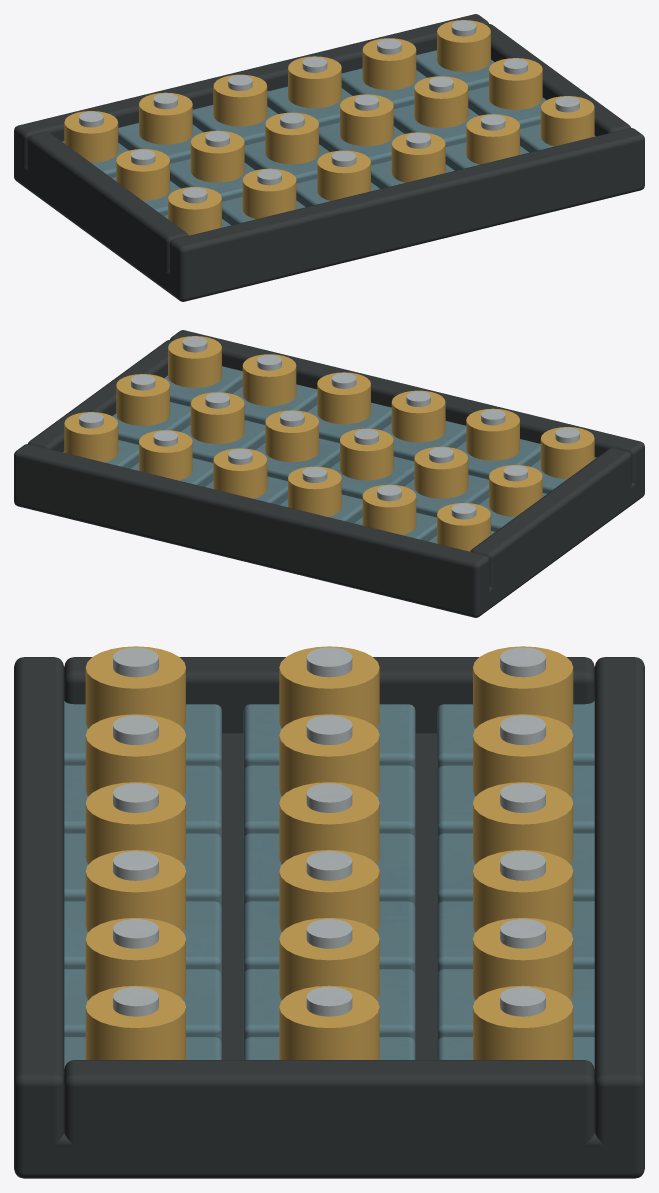
Rendered from gorgehold-survivor-gallery-and-operations-tool-battery-5aa04549__32865.glb.
3 renders of one model, top to bottom at view 1: azimuth 30°, elevation 25°; view 2: azimuth 150°, elevation 25°; view 3: azimuth 270°, elevation 25°, orthographic. The views are drawn at different scales.
Parts seen in each view (by area): view 1: tool-battery-cell-sorting-tray; view 2: tool-battery-cell-sorting-tray; view 3: tool-battery-cell-sorting-tray.
Part boxes in pixels (x1,y1,x2,y2): tool-battery-cell-sorting-tray: (14,14,644,301); tool-battery-cell-sorting-tray: (14,330,644,617); tool-battery-cell-sorting-tray: (14,646,644,1178).
Bounding box in the file's own units: 0.7 × 0.11 × 0.44.
Materials: 4 (2 with a texture image).
